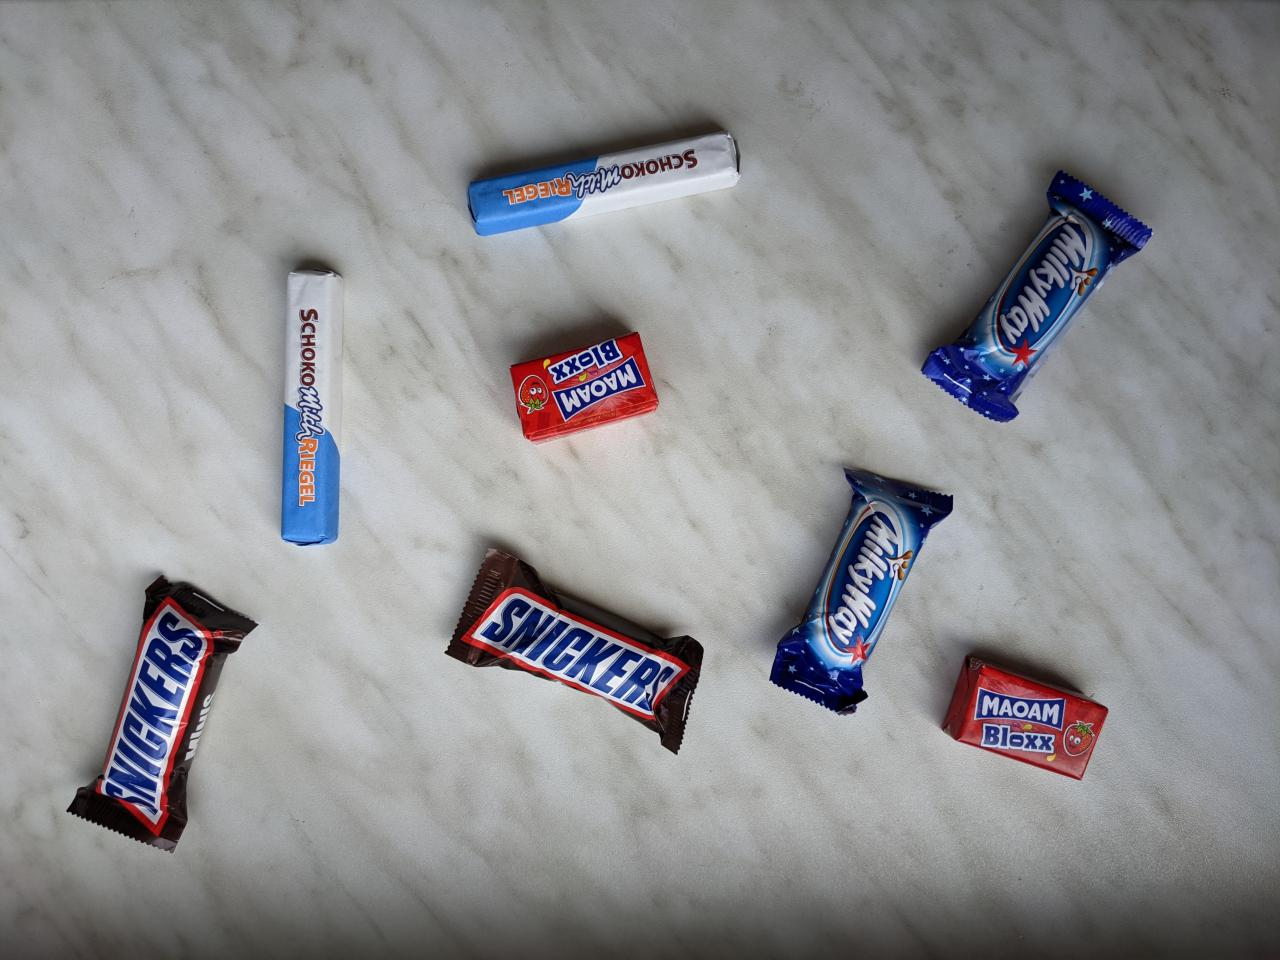MAOAM: (937, 649, 1113, 788), (505, 328, 666, 447)
MilkyWay: (916, 166, 1160, 425), (765, 462, 959, 721)
Schokoriegel: (463, 128, 749, 242), (275, 265, 350, 551)
Snickers: (61, 570, 265, 858), (440, 544, 710, 760)
